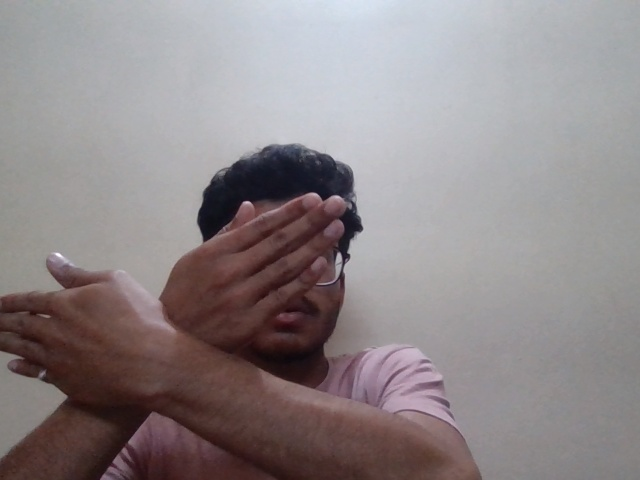feel: (1, 185, 360, 422)
